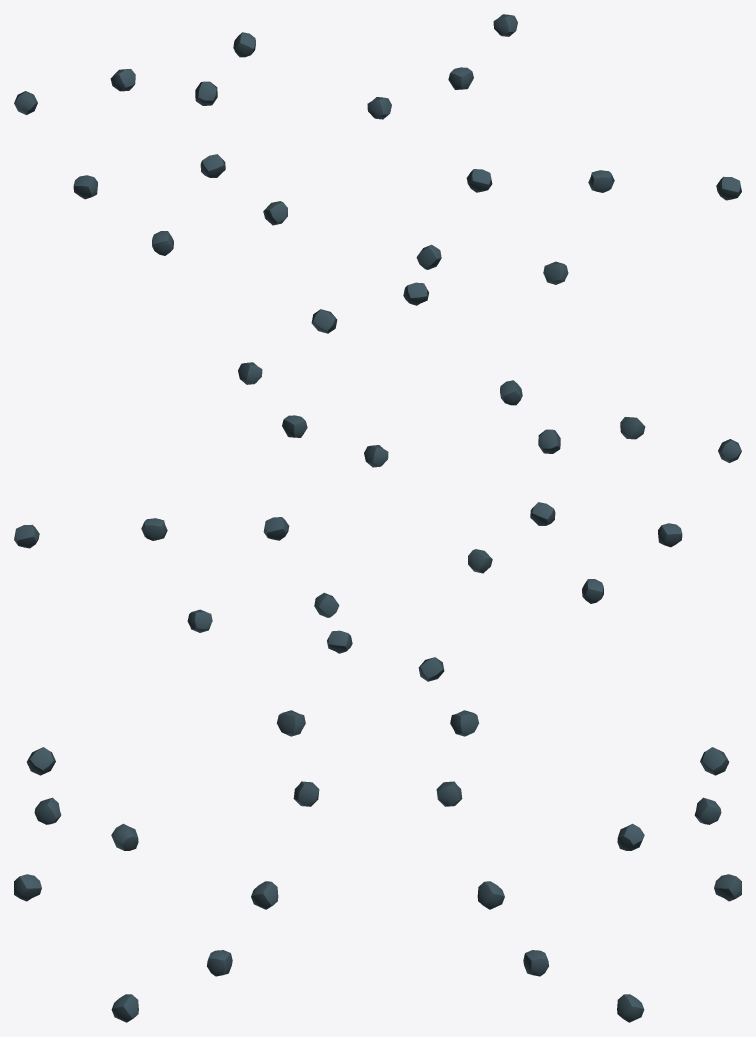
File: rocks.fbx
3 views of the same model, one above another, from view 1: azimuth 30°, elevation 25°; view 2: azimuth 150°, elevation 25°; view 3: azimuth 270°, elevation 25° (orthographic). The views are drawn at different scales.
Parts seen in each view (by area): view 1: Object; view 2: Object; view 3: Object.
Boxes of the visible parts, <box> form: Object: <box>14,14,741,333</box>; Object: <box>14,362,741,681</box>; Object: <box>14,710,741,1022</box>.
Size of the model in its own units: 8.86 by 0.573 by 9.61.
